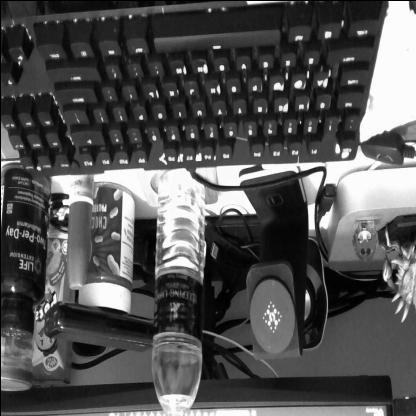plastic_bottles: (149, 167, 205, 416)
